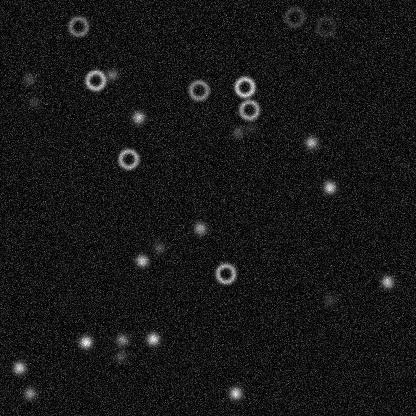Ring: (116, 146, 140, 170), (83, 68, 107, 92), (236, 97, 260, 121), (186, 78, 210, 102), (213, 261, 237, 285), (66, 14, 90, 38), (282, 5, 306, 29), (313, 14, 337, 38), (232, 74, 256, 98)
Spot: (227, 385, 243, 401), (25, 93, 41, 109), (151, 239, 167, 255), (114, 331, 130, 347), (144, 330, 160, 346), (21, 71, 37, 87), (242, 119, 258, 135), (321, 291, 337, 307), (77, 333, 93, 349), (192, 220, 208, 236), (229, 124, 245, 140), (112, 348, 128, 364), (303, 134, 319, 150), (133, 252, 149, 268), (103, 66, 119, 82), (321, 179, 337, 195), (130, 109, 146, 125), (11, 359, 27, 375), (21, 385, 37, 401), (379, 273, 395, 289)
